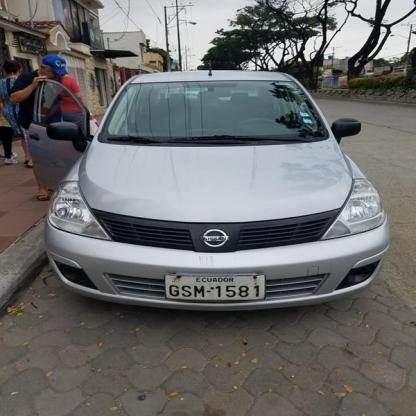Placa: (162, 270, 270, 305)
